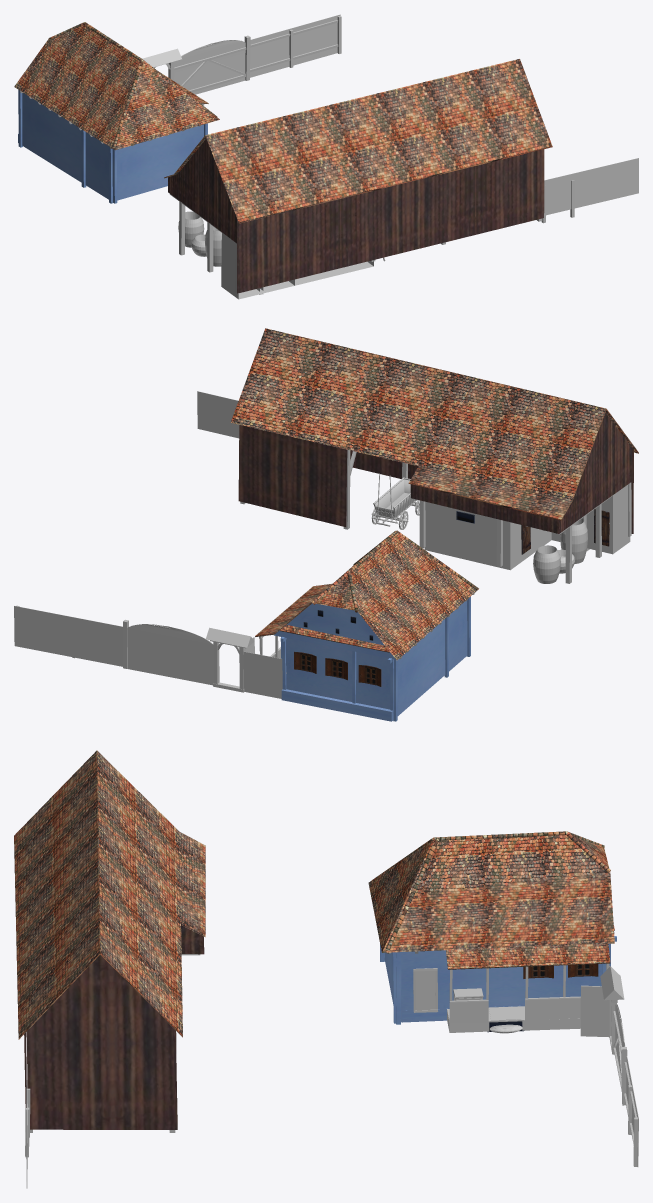
File: CasaFermaStilRomanesc.fbx
3 renders of one model, top to bottom at view 1: azimuth 30°, elevation 25°; view 2: azimuth 150°, elevation 25°; view 3: azimuth 270°, elevation 25°, orthographic. The views are drawn at different scales.
Parts seen in each view (by area): view 1: Cube.054, Cube.013, Cylinder.345, Cube.133, Cube.015, Cube.061, Cube.047, Cube.126, Cube.080, Cube.230, Cylinder.003, Cylinder (+1 smaller); view 2: Cube.055, Cylinder.345, Cube.012, Cube.133, Cube.015, Cube.230, Cube.047, Cube.126, Cube.131, Cube.080, Cube.041, Cube.061 (+9 smaller); view 3: Cylinder.345, Cube.014, Cube.055, Cube.054, Cube.133, Cube.132, Cube.008, Cube.165, Cube.166, Cube.056, Cube.162, Cylinder.
Part boxes in pixels (x1,y1,x2,y2): Cube.054: (205,59,552,223); Cube.013: (237,149,544,293); Cylinder.345: (14,25,219,150); Cube.133: (22,93,203,200); Cube.015: (168,139,236,243); Cube.061: (544,158,638,215); Cube.047: (250,14,340,77); Cube.126: (174,40,245,94); Cube.080: (221,233,294,299); Cube.230: (289,260,373,285); Cylinder.003: (178,211,204,247); Cylinder: (142,48,181,67); Cube.055: (231,328,606,520); Cylinder.345: (275,533,478,660); Cube.012: (238,425,347,526); Cube.133: (286,601,467,719); Cube.015: (410,413,632,533); Cube.230: (424,501,551,570); Cube.047: (14,606,122,666); Cube.126: (127,624,213,685); Cube.131: (285,603,384,645); Cube.080: (551,485,630,554); Cube.041: (243,651,282,698); Cube.061: (197,391,239,438); Cylinder.345: (368,835,614,952); Cube.014: (26,955,175,1129); Cube.055: (97,750,205,1037); Cube.054: (14,750,100,1039); Cube.133: (384,950,602,1022); Cube.132: (446,942,610,969); Cube.008: (580,985,609,1037); Cube.165: (525,998,580,1020); Cube.166: (449,1001,488,1022); Cube.056: (415,971,435,1010); Cube.162: (522,1018,580,1030); Cylinder: (600,966,624,1000).
Size of the model in its own units: 12794 by 4620 by 13045.
